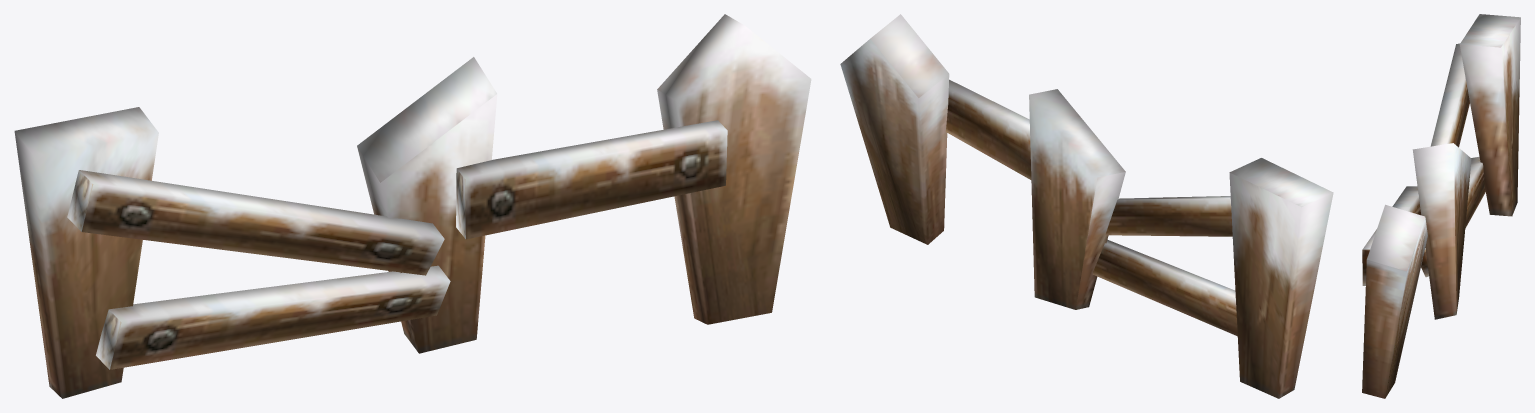
File: SM_Enclosure_10.fbx
The picture shows the model from 3 angles, left to right: view 1: azimuth 30°, elevation 25°; view 2: azimuth 150°, elevation 25°; view 3: azimuth 270°, elevation 25°; orthographic projection. The views are drawn at different scales.
Parts seen in each view (by area): view 1: SM_Enclosure_10; view 2: SM_Enclosure_10; view 3: SM_Enclosure_10.
Part boxes in pixels (box(x1,y1,x2,y2)): SM_Enclosure_10: box(14, 14, 811, 398); SM_Enclosure_10: box(840, 14, 1333, 398); SM_Enclosure_10: box(1362, 14, 1520, 398).
Bounding box in the file's own units: 2.78 × 1.09 × 0.8143.
